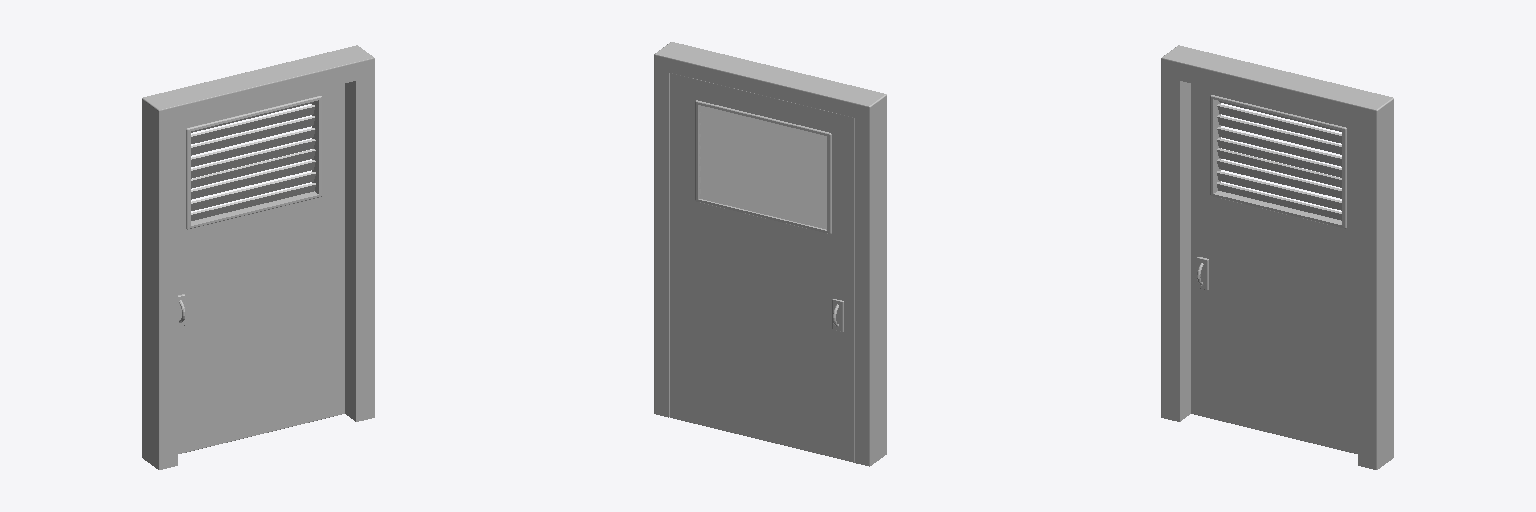
File: metal door.obj
The picture shows the model from 3 angles: view 1: azimuth 30°, elevation 25°; view 2: azimuth 150°, elevation 25°; view 3: azimuth 330°, elevation 25°; orthographic projection.
Visible parts, largest first — view 1: Polygon.1_Untitled.002, Cube.001_Untitled.001; view 2: Polygon.1_Untitled.002, Cube.001_Untitled.001; view 3: Polygon.1_Untitled.002, Cube.001_Untitled.001.
Boxes of the visible parts, <box> form: Polygon.1_Untitled.002: <box>178,84,344,453</box>; Cube.001_Untitled.001: <box>142,45,374,469</box>; Polygon.1_Untitled.002: <box>670,73,854,462</box>; Cube.001_Untitled.001: <box>654,42,886,466</box>; Polygon.1_Untitled.002: <box>1191,84,1357,453</box>; Cube.001_Untitled.001: <box>1161,45,1393,469</box>.
Size of the model in its own units: 4.6 by 7.32 by 0.8239.